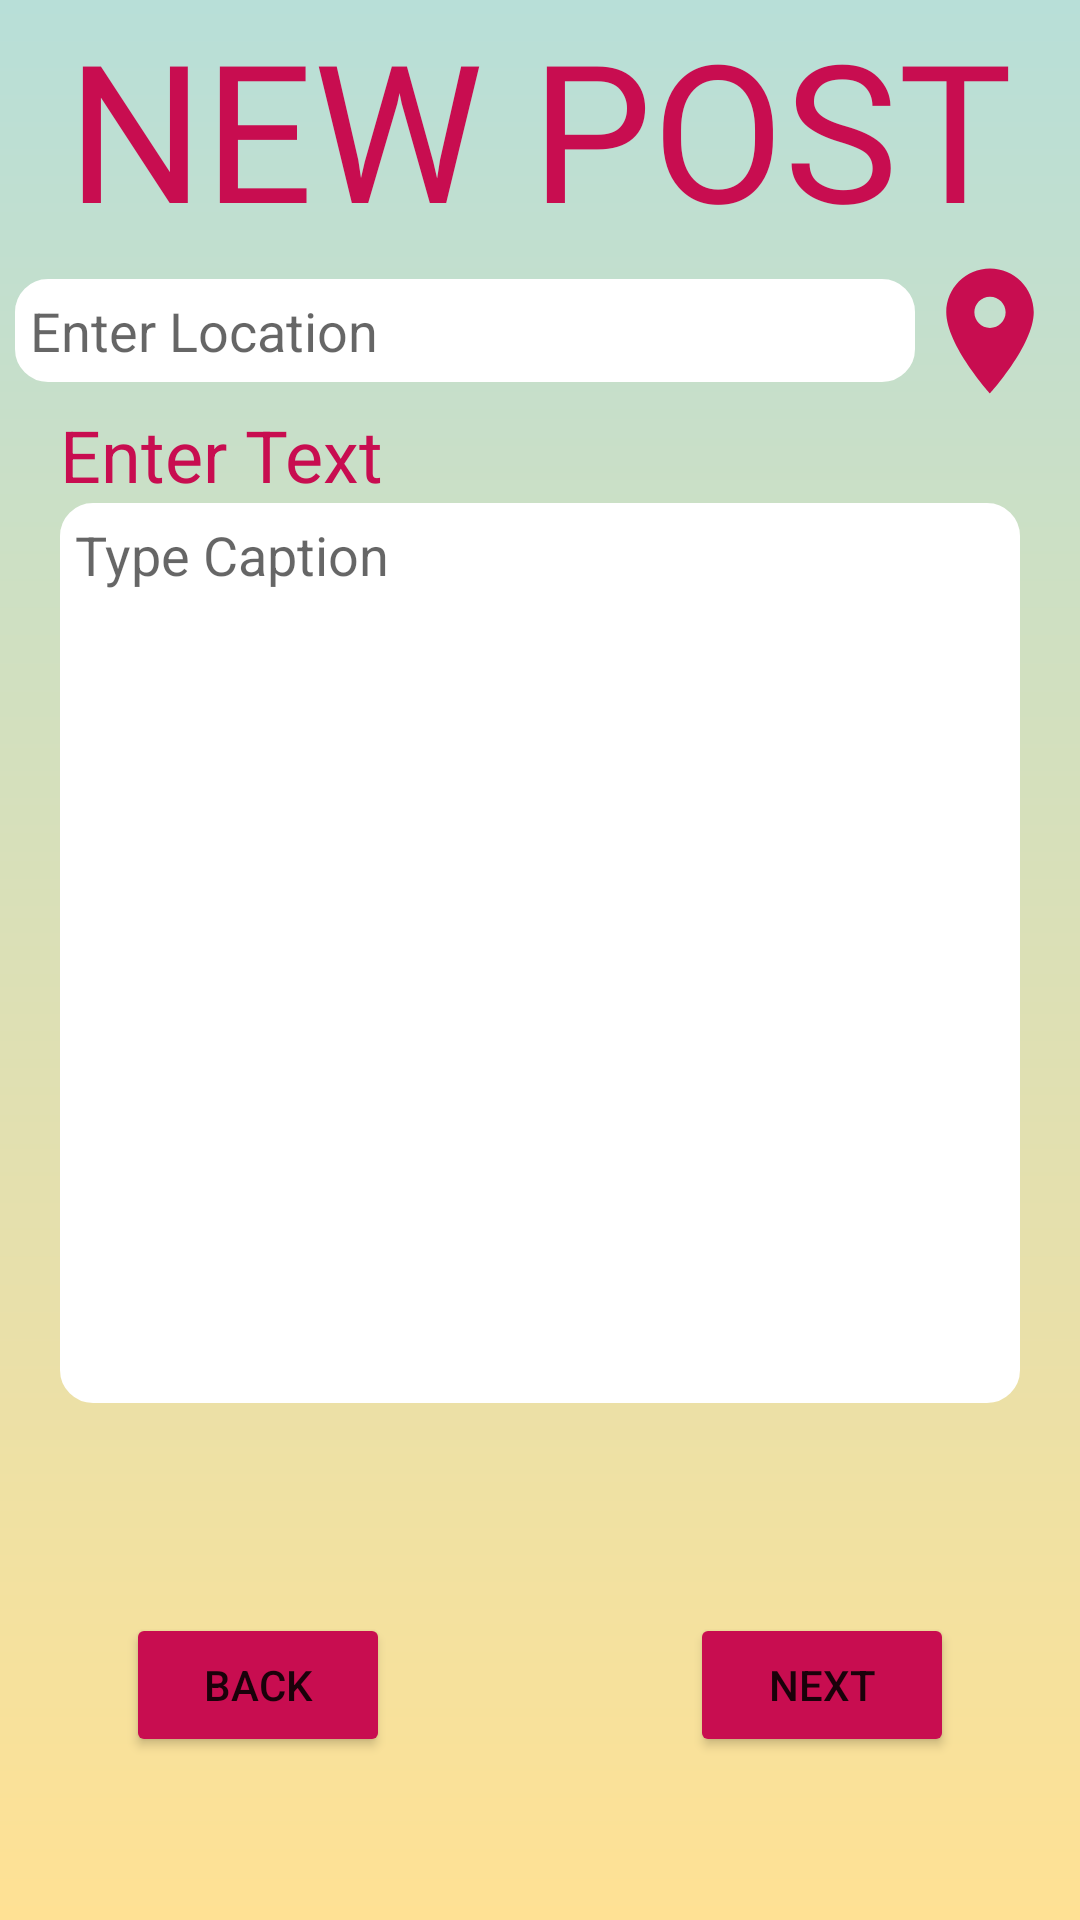

Icons on this 1080*1920 Android screen, each with its box as Rect(x1, y1, x2, y2):
location on: Rect(946, 268, 1034, 394)
